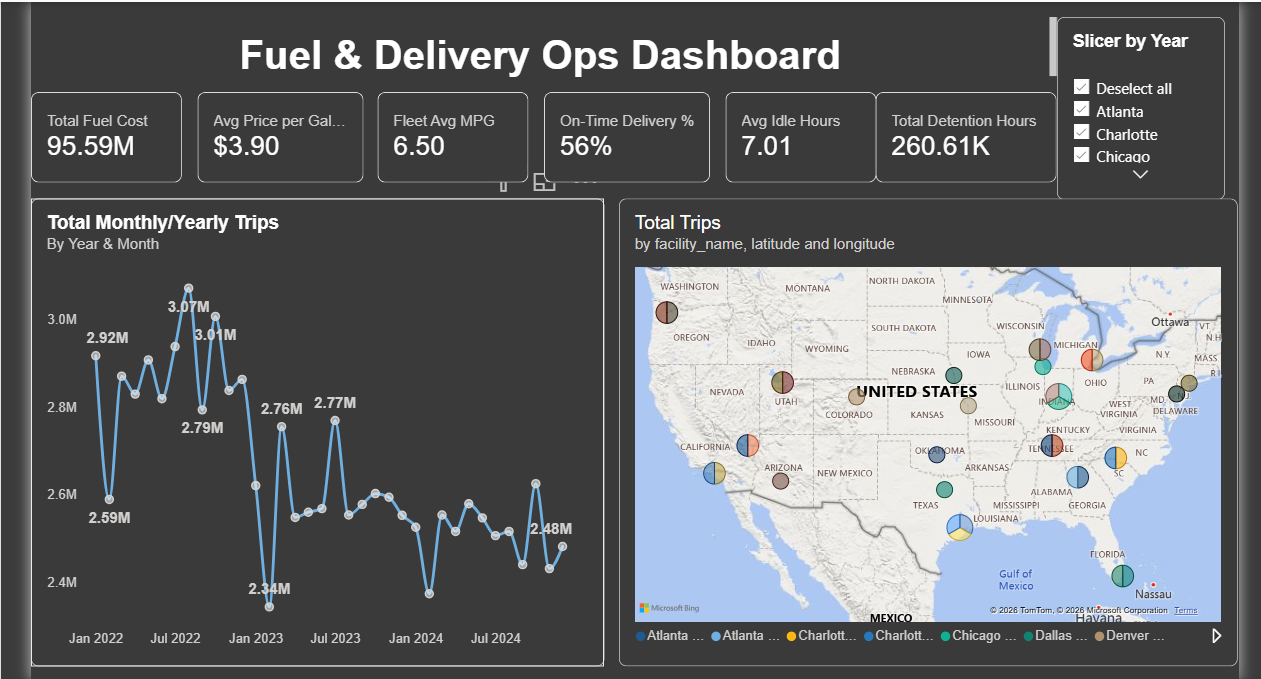

This screenshot's page, from the dashboard's own definition file:
{"tool":"powerbi","page":{"name":"Fuel & Delivery Ops","canvas":[1280,720],"ordinal":3},"visuals":[{"type":"cardVisual","fields":{"Data":["customers.Avg Price per Gallon"]},"box":[176,96,176,96],"z":0},{"type":"cardVisual","fields":{"Data":["customers.Total Detention Hours"]},"box":[896,96,192,96],"z":1000},{"type":"cardVisual","fields":{"Data":["customers.Total Fuel Cost"]},"box":[0,96,160,96],"z":2000},{"type":"lineChart","title":"Total Monthly/Yearly Trips","fields":{"Category":["date_dim.YearMonth"],"Y":["customers.Total Fuel Cost"]},"box":[0,208,608,496],"z":4000},{"type":"textbox","box":[0,16,1088,64],"z":7000},{"type":"cardVisual","fields":{"Data":["customers.Fleet Avg MPG"]},"box":[368,96,160,96],"z":8000},{"type":"listSlicer","title":"Slicer by Year","fields":{"Values":["fuel_purchases.location_city"]},"box":[1088,16,178.1,194.1],"z":10000},{"type":"cardVisual","fields":{"Data":["customers.Avg Idle Hours"]},"box":[736,96,160,96],"z":10001},{"type":"cardVisual","fields":{"Data":["customers.On-Time Delivery %"]},"box":[544,96,176,96],"z":10002},{"type":"map","fields":{"Series":["facilities.facility_name"],"Size":["customers.Total Trips"],"X":["facilities.longitude"],"Y":["facilities.latitude"]},"box":[624,208,656,496],"z":10003}]}

Visuals, with their boxes on the page's 1280x720 design canvas (x1, y1, x2, y2). These are canvas units, not pixel positions in the 1261x679 screenshot, which may show the page scaled, cropped or inside an application window:
cardVisual - customers.Avg Price per Gallon: x1=176 y1=96 x2=352 y2=192
cardVisual - customers.Total Detention Hours: x1=896 y1=96 x2=1088 y2=192
cardVisual - customers.Total Fuel Cost: x1=0 y1=96 x2=160 y2=192
"Total Monthly/Yearly Trips" lineChart: x1=0 y1=208 x2=608 y2=704
textbox: x1=0 y1=16 x2=1088 y2=80
cardVisual - customers.Fleet Avg MPG: x1=368 y1=96 x2=528 y2=192
"Slicer by Year" listSlicer: x1=1088 y1=16 x2=1266 y2=210
cardVisual - customers.Avg Idle Hours: x1=736 y1=96 x2=896 y2=192
cardVisual - customers.On-Time Delivery %: x1=544 y1=96 x2=720 y2=192
map - facilities.facility_name x customers.Total Trips: x1=624 y1=208 x2=1280 y2=704
